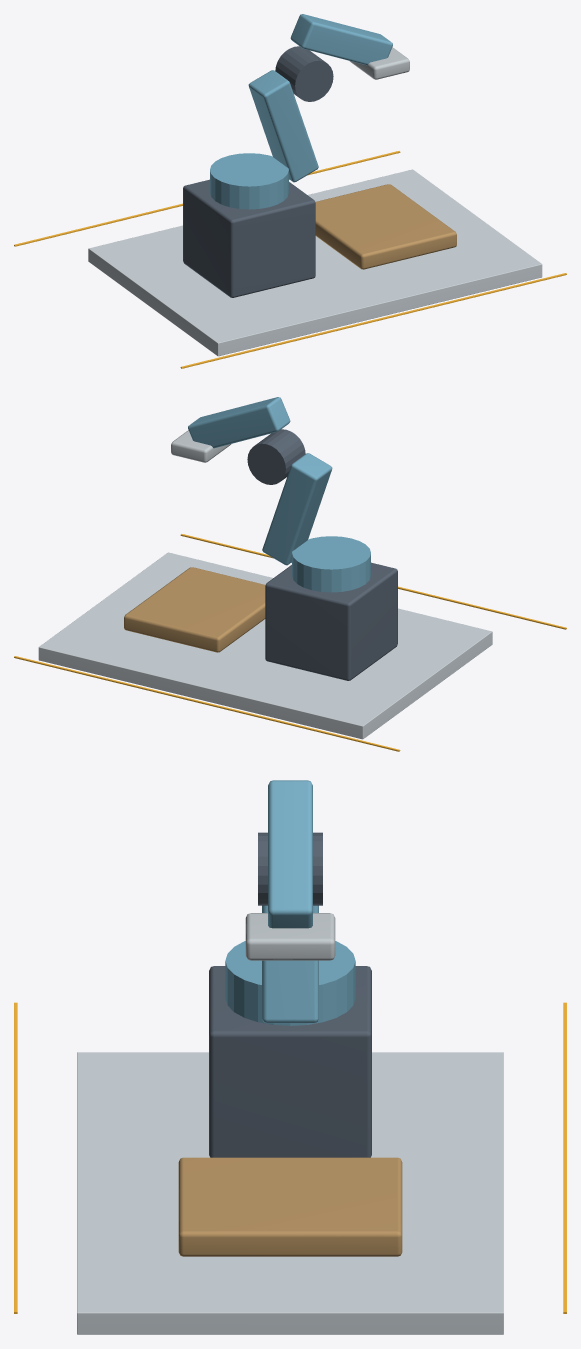
3 renders of one model, top to bottom at view 1: azimuth 30°, elevation 25°; view 2: azimuth 150°, elevation 25°; view 3: azimuth 270°, elevation 25°, orthographic. The views are drawn at different scales.
Parts seen in each view (by area): view 1: Ground plane, Fixed automation base, Pallet work zone, Articulated lower arm, Robot shoulder, Articulated upper arm, Elbow axis, Concept clearance guide, End effector, Concept clearance guide.001; view 2: Ground plane, Fixed automation base, Pallet work zone, Articulated lower arm, Robot shoulder, Articulated upper arm, Elbow axis, Concept clearance guide.001, End effector, Concept clearance guide; view 3: Ground plane, Fixed automation base, Pallet work zone, Articulated upper arm, Robot shoulder, Articulated lower arm, End effector, Elbow axis, Concept clearance guide, Concept clearance guide.001.
Boxes of the visible parts, x1,y1,x2,y2 form: Ground plane: (88, 169, 542, 356); Fixed automation base: (183, 179, 315, 297); Pallet work zone: (315, 184, 456, 269); Articulated lower arm: (248, 70, 318, 182); Robot shoulder: (210, 153, 288, 209); Articulated upper arm: (290, 14, 392, 65); Elbow axis: (275, 46, 333, 101); Concept clearance guide: (180, 273, 566, 368); End effector: (349, 47, 409, 79); Concept clearance guide.001: (14, 151, 400, 246); Ground plane: (38, 552, 492, 739); Fixed automation base: (265, 562, 397, 680); Pallet work zone: (124, 567, 265, 652); Articulated lower arm: (262, 453, 332, 565); Robot shoulder: (292, 536, 370, 592); Articulated upper arm: (188, 397, 290, 448); Elbow axis: (247, 429, 305, 484); Concept clearance guide.001: (14, 656, 400, 751); End effector: (171, 430, 231, 462); Concept clearance guide: (180, 534, 566, 629); Ground plane: (77, 1052, 503, 1334); Fixed automation base: (209, 966, 371, 1157); Pallet work zone: (178, 1157, 402, 1256); Articulated upper arm: (268, 780, 312, 928); Robot shoulder: (225, 941, 355, 1025); Articulated lower arm: (262, 905, 318, 1023); End effector: (245, 913, 335, 960); Elbow axis: (258, 832, 322, 905); Concept clearance guide: (14, 1002, 17, 1313); Concept clearance guide.001: (563, 1002, 566, 1313).
Bounding box in the file's own units: 3.6 × 2.26 × 2.72.
